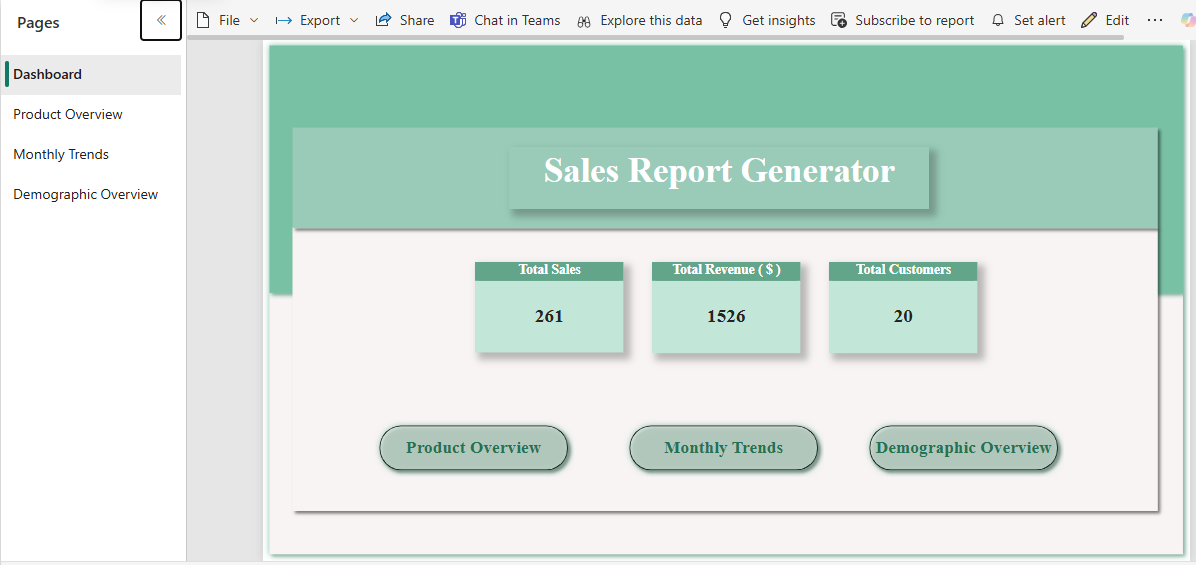

The dashboard page shown, as its layout file describes it:
{"tool":"powerbi","page":{"name":"Dashboard","canvas":[1280,720],"ordinal":0},"visuals":[{"type":"group","id":"g1","title":"Group 2","box":[0,-1,1280.3,721.3],"z":0},{"type":"shape","box":[31.4,251.4,1213.5,409.7],"z":0,"group":"g4"},{"type":"card","title":"Total Sales","fields":{"Values":["Sales.TotalSalesQty"]},"box":[292.5,307.1,205.5,125],"z":0,"group":"g3"},{"type":"group","id":"g2","title":"Group 1","box":[31.4,112.6,1213.5,548.5],"z":1000},{"type":"shape","box":[31.4,112.6,1213.5,157.1],"z":1000,"group":"g4"},{"type":"card","title":"Total Revenue ( $ )","fields":{"Values":["Sales.TotalRevenue"]},"box":[537.5,307.1,205.5,125.6],"z":1000,"group":"g3"},{"type":"shape","box":[0,340.7,1280.3,379.6],"z":1250,"group":"g1"},{"type":"shape","box":[0,-1,1280.3,360],"z":1500,"group":"g1"},{"type":"textbox","box":[339.8,148.5,581.2,86.4],"z":2000,"group":"g4"},{"type":"group","id":"g3","title":"Group 4","box":[292.5,306.8,694.9,125.6],"z":2000},{"type":"card","title":"Total Customers","fields":{"Values":["Sales.TotalCust"]},"box":[782,306.8,205.5,125.6],"z":2000,"group":"g3"},{"type":"group","id":"g4","title":"Group 3","box":[31.4,112.6,1213.5,548.5],"z":2002,"group":"g2"},{"type":"actionButton","box":[152.7,523.7,278.3,79.9],"z":3000},{"type":"card","fields":{"Values":["Sales.TotalRevenue"]},"box":[189.8,307.2,299.7,299.7],"z":3002,"group":"g1"},{"type":"actionButton","box":[498,523.7,278.3,79.9],"z":4000},{"type":"actionButton","box":[829.1,523.7,278.3,79.9],"z":5000}]}

Visuals, with their boxes on the page's 1280x720 design canvas (x1, y1, x2, y2). These are canvas units, not pixel positions in the 1196x565 screenshot, which may show the page scaled, cropped or inside an application window:
"Group 2" group: bbox(0, -1, 1280, 720)
shape: bbox(31, 251, 1245, 661)
"Total Sales" card: bbox(292, 307, 498, 432)
"Group 1" group: bbox(31, 113, 1245, 661)
shape: bbox(31, 113, 1245, 270)
"Total Revenue ( $ )" card: bbox(538, 307, 743, 433)
shape: bbox(0, 341, 1280, 720)
shape: bbox(0, -1, 1280, 359)
textbox: bbox(340, 148, 921, 235)
"Group 4" group: bbox(292, 307, 987, 432)
"Total Customers" card: bbox(782, 307, 988, 432)
"Group 3" group: bbox(31, 113, 1245, 661)
actionButton: bbox(153, 524, 431, 604)
card - Sales.TotalRevenue: bbox(190, 307, 490, 607)
actionButton: bbox(498, 524, 776, 604)
actionButton: bbox(829, 524, 1107, 604)
